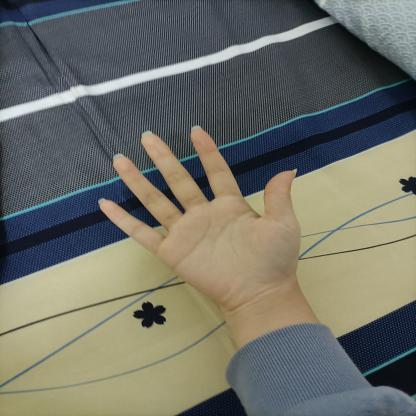bare_hand: (85, 118, 318, 334)
